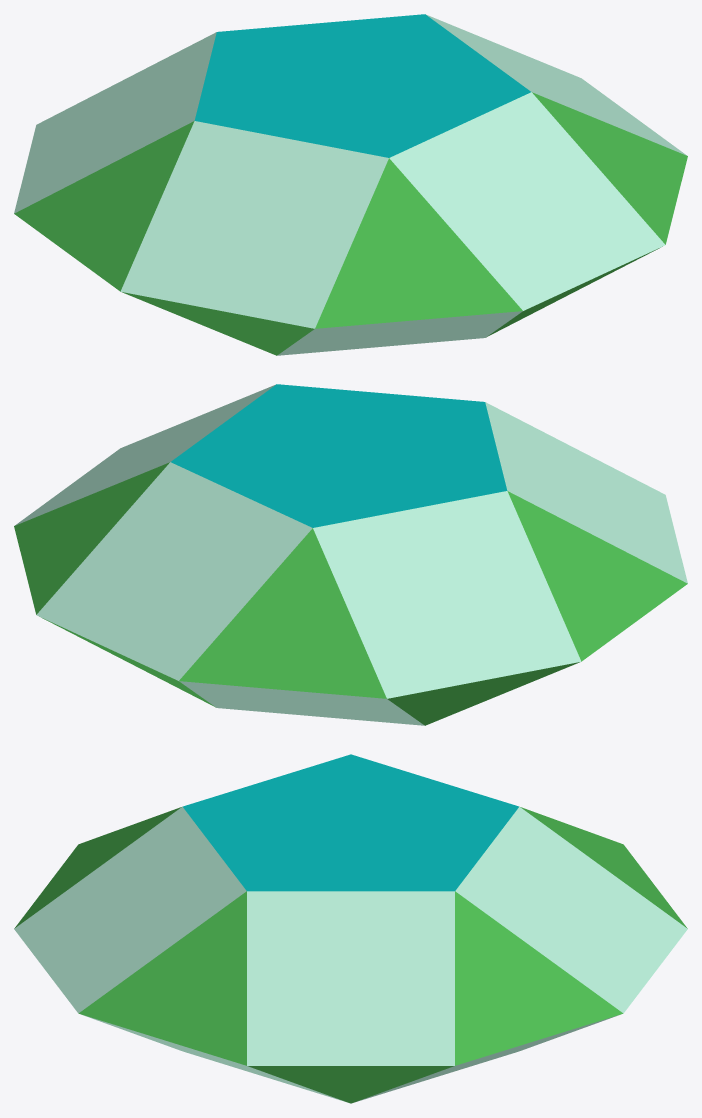
The model's file is J31.GirobicupulaPentagonal.gltf.
3 renders of one model, top to bottom at view 1: azimuth 30°, elevation 25°; view 2: azimuth 150°, elevation 25°; view 3: azimuth 270°, elevation 25°, orthographic. The views are drawn at different scales.
Visible parts, largest first — view 1: J31.GirobicupulaPentagonal; view 2: J31.GirobicupulaPentagonal; view 3: J31.GirobicupulaPentagonal.
Part boxes in pixels (x1,y1,x2,y2): J31.GirobicupulaPentagonal: [14, 14, 687, 355]; J31.GirobicupulaPentagonal: [14, 384, 687, 725]; J31.GirobicupulaPentagonal: [14, 754, 687, 1103].
Bounding box in the file's own units: 19.02 × 6.55 × 20.
